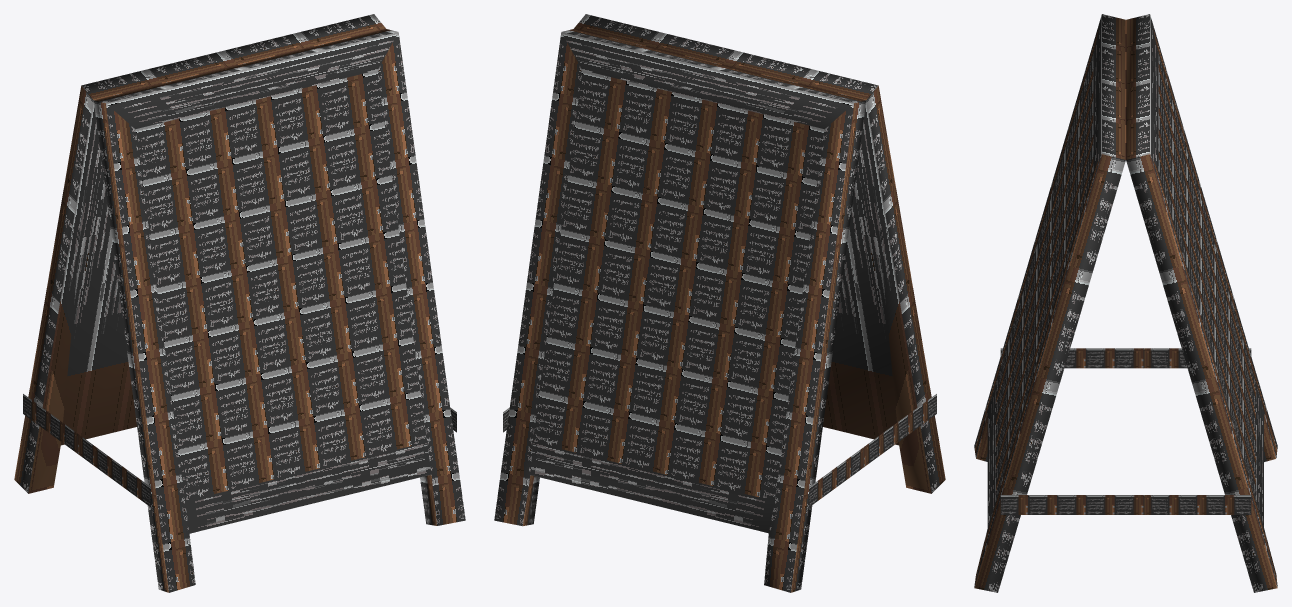
The model's file is 3332IMIG11_01.gltf.
The picture shows the model from 3 angles, left to right: view 1: azimuth 30°, elevation 25°; view 2: azimuth 150°, elevation 25°; view 3: azimuth 270°, elevation 25°; orthographic projection.
Parts seen in each view (by area): view 1: 3332IMIG11_01; view 2: 3332IMIG11_01; view 3: 3332IMIG11_01.
Boxes of the visible parts, bbox=[...] form: 3332IMIG11_01: bbox=[14, 14, 465, 592]; 3332IMIG11_01: bbox=[494, 14, 945, 592]; 3332IMIG11_01: bbox=[974, 14, 1277, 592].
Size of the model in its own units: 0.9639 by 1.35 by 0.8438.
Materials: 1 (1 with a texture image).
